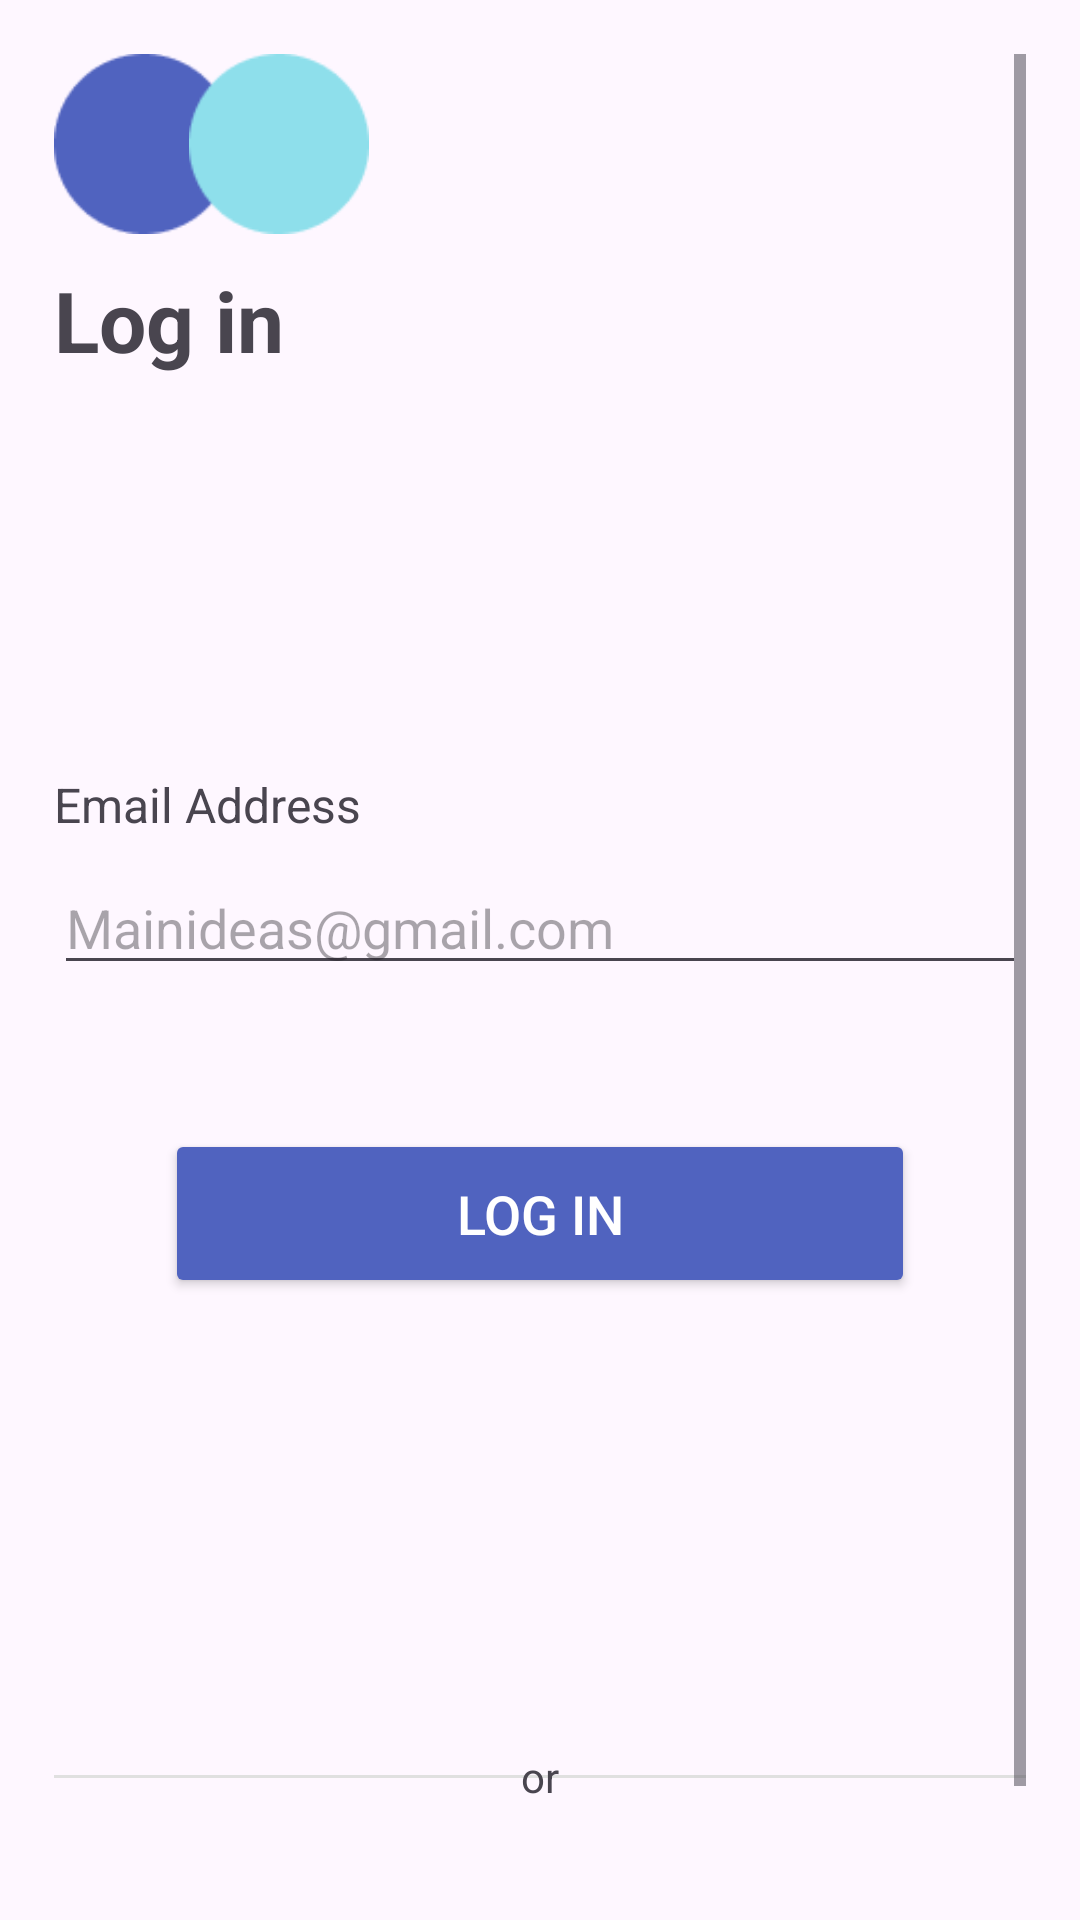

Where to tap for icons on this 1080px×1920px app screen, as (x=x, y=y):
elipce: (x=144, y=144), (x=279, y=144)
